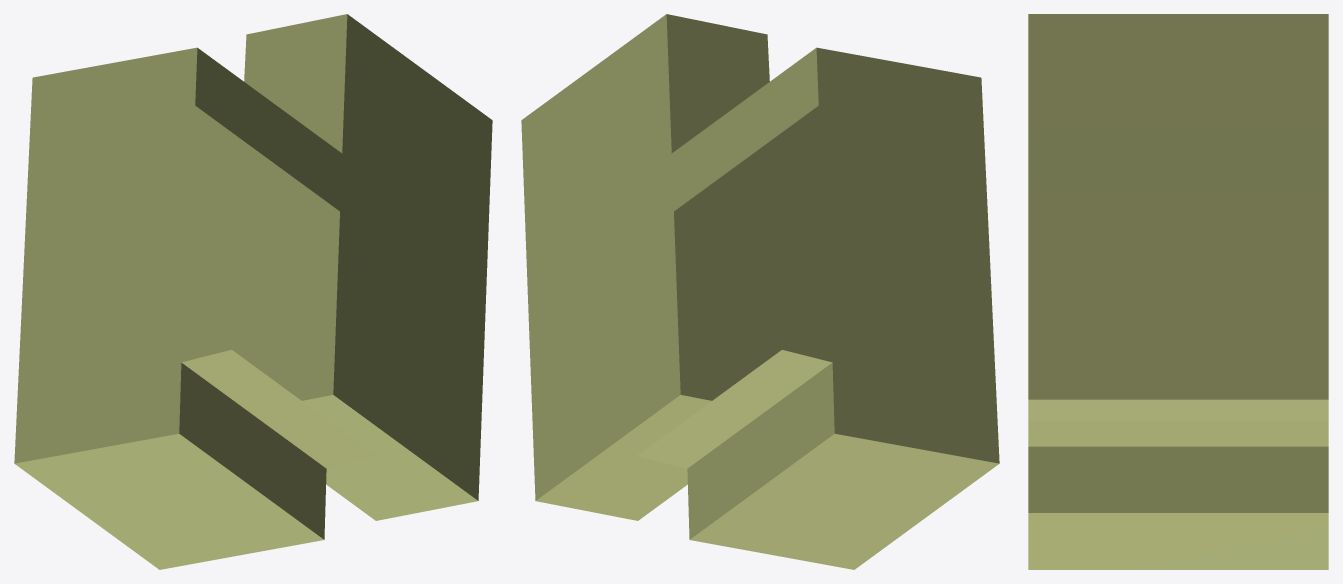
The picture shows the model from 3 angles, left to right: view 1: azimuth 30°, elevation 25°; view 2: azimuth 150°, elevation 25°; view 3: azimuth 270°, elevation 25°; orthographic projection. The views are drawn at different scales.
Visible parts, largest first — view 1: 0_0_3_1_2_0_1_2_1_0; view 2: 0_0_3_1_2_0_1_2_1_0; view 3: 0_0_3_1_2_0_1_2_1_0.
Boxes of the visible parts, left/top/right/bottom form: 0_0_3_1_2_0_1_2_1_0: left=14, top=14, right=492, bottom=569; 0_0_3_1_2_0_1_2_1_0: left=521, top=14, right=999, bottom=569; 0_0_3_1_2_0_1_2_1_0: left=1028, top=14, right=1328, bottom=569.
Size of the model in its own units: 11.92 by 13.4 by 9.
